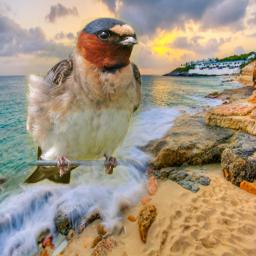Swallow: (22, 17, 146, 186)
